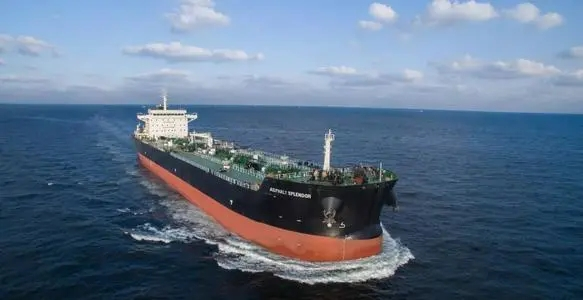Cargoship: (127, 90, 397, 263)
